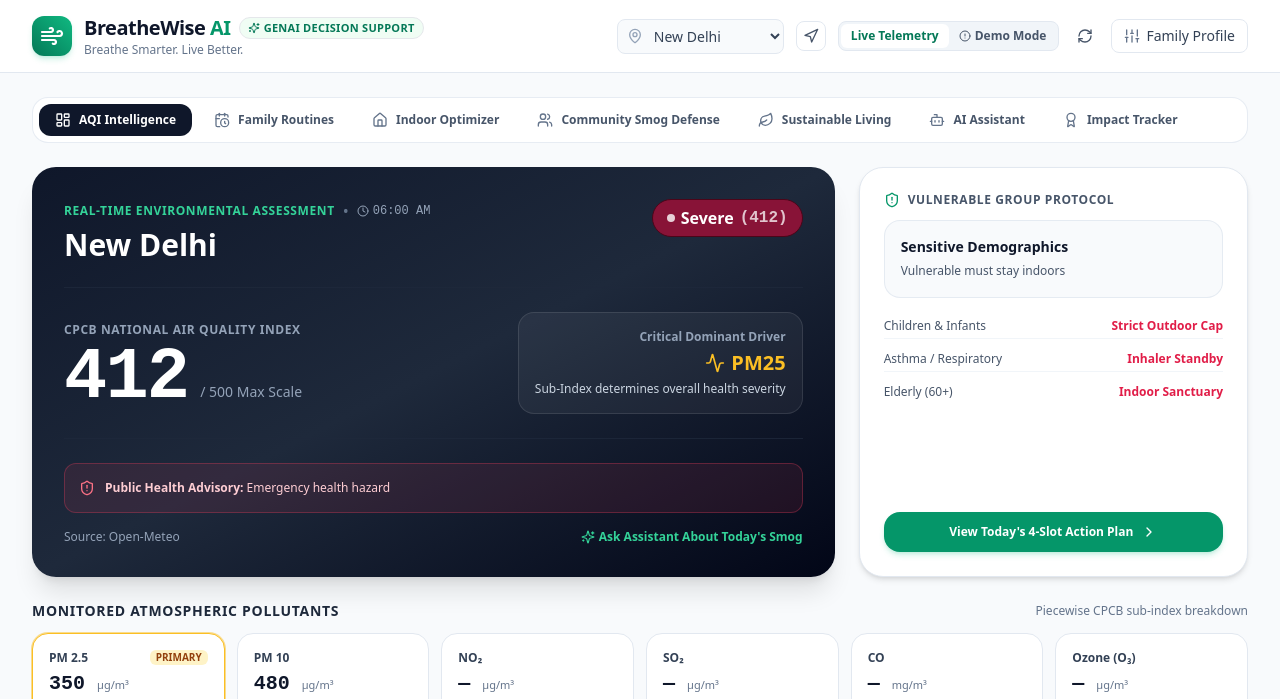
Test: Frontend App Shell Integration Tests › allows tab switching between application views
The image size is (1280, 699).
Expected: the heading "BreatheWise AI" is shown, [84,14,231,42]
Click the tab "Indoor Optimizer". click: click(436, 120)
box: [356,104,515,136]
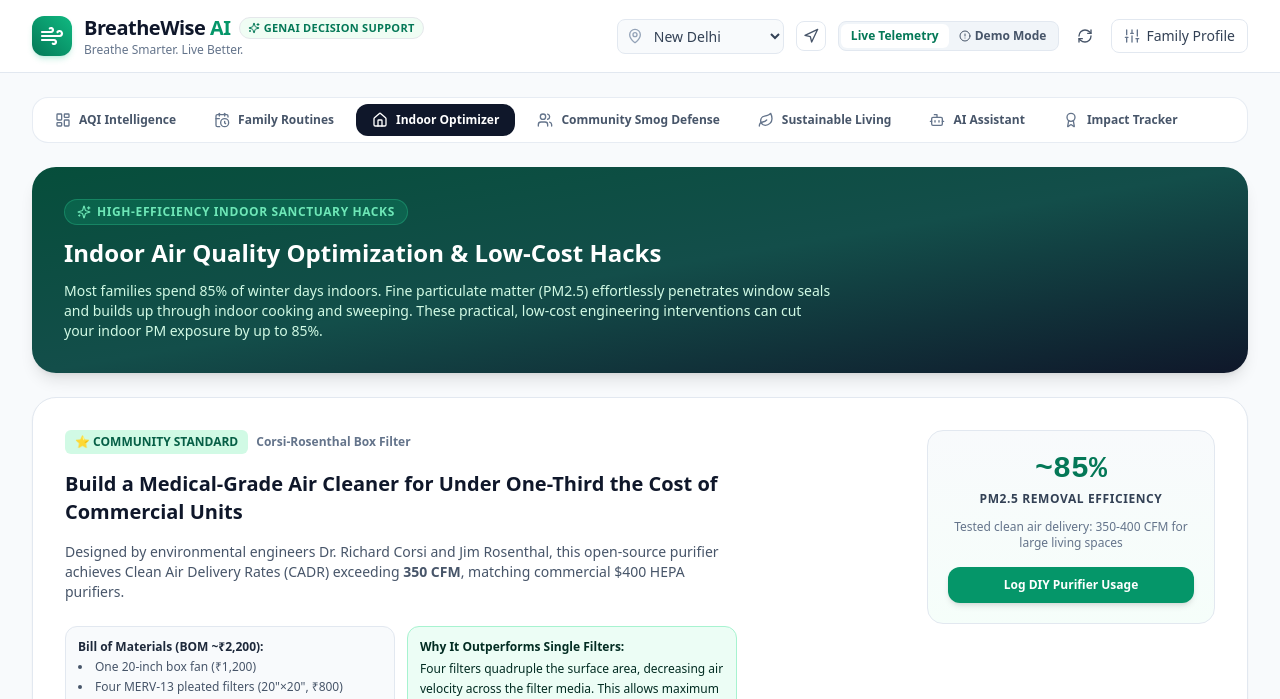
Expected: the text "Corsi-Rosenthal Box Filter" is shown, [256,434,411,450]
Click the tab "Impact Tracker". click: click(1120, 120)
box: [1047,104,1194,136]
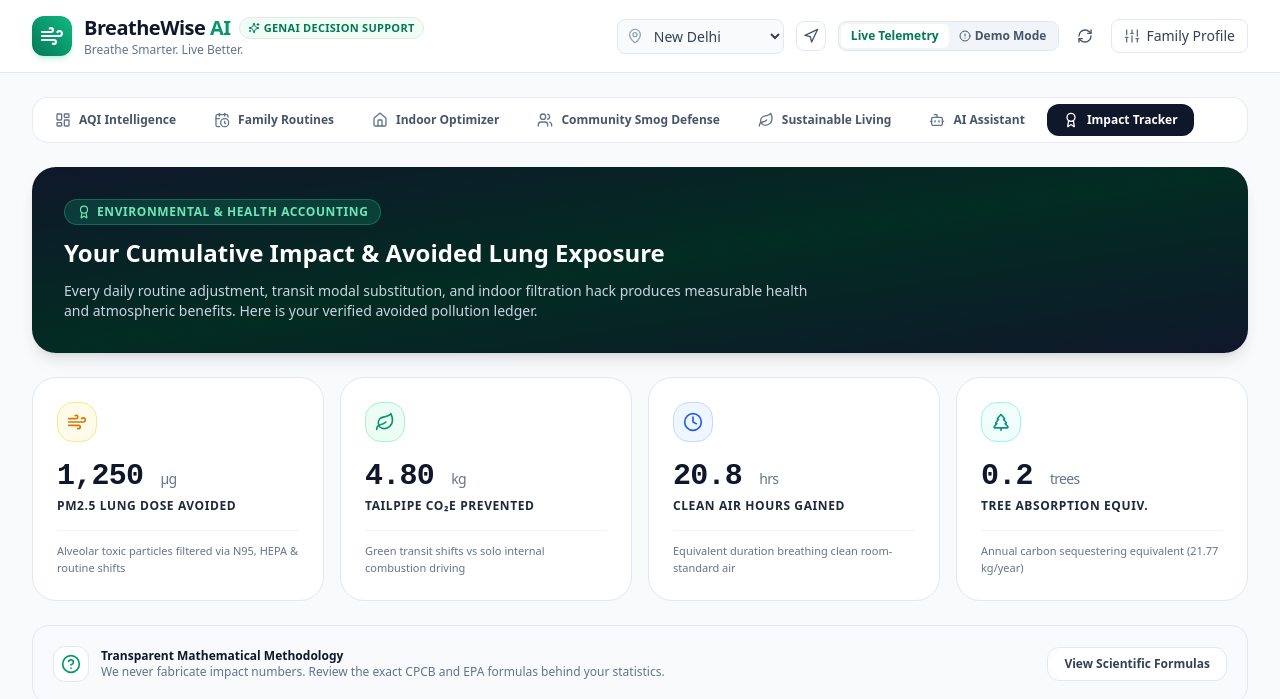
Expected: the tab "Impact Tracker" is selected, [1047,104,1194,136]
